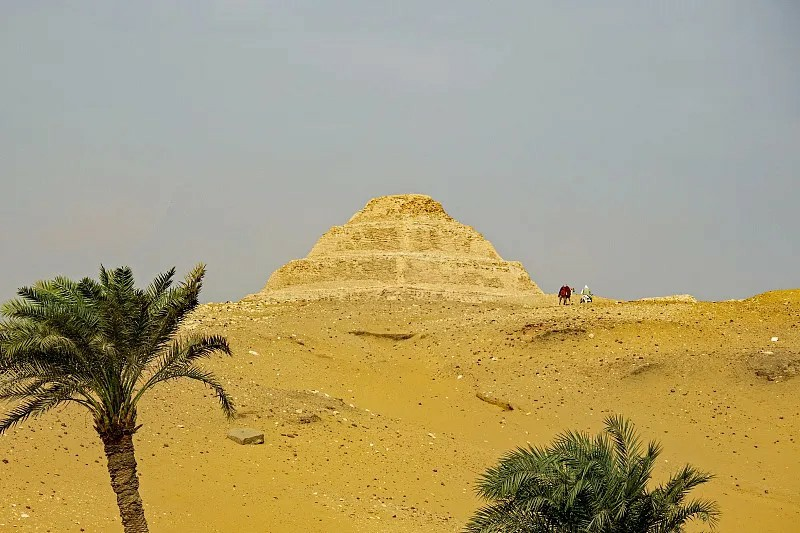Pyramid: (245, 193, 547, 297)
